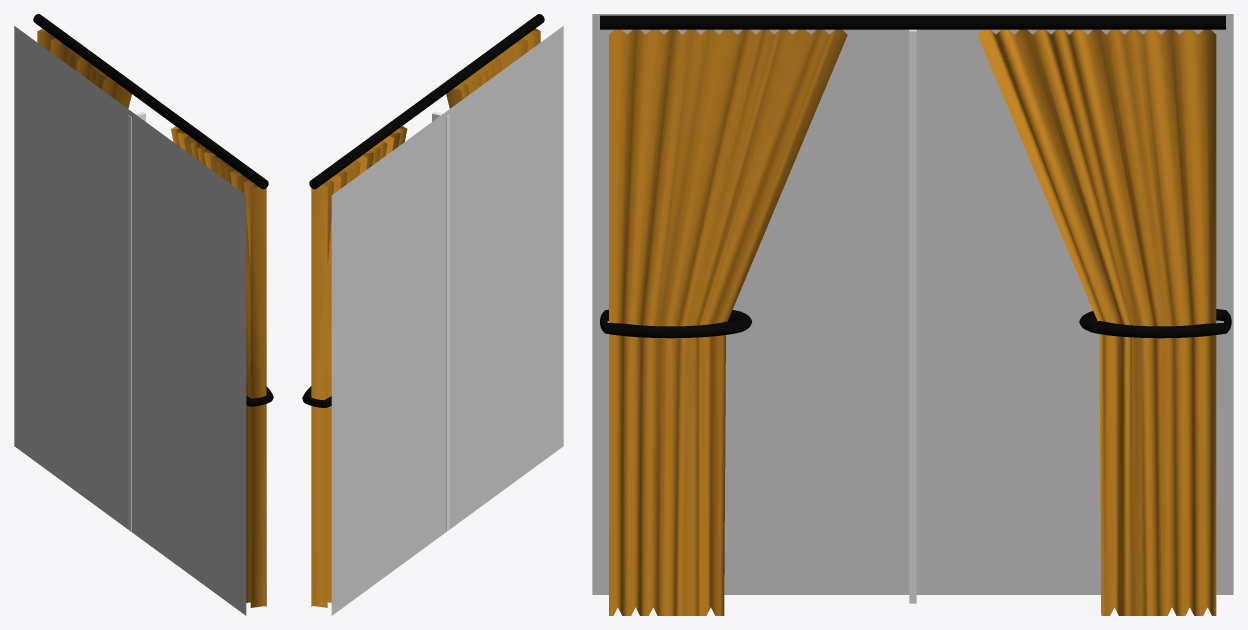
The model's file is window.fbx.
3 renders of one model, left to right at view 1: azimuth 30°, elevation 25°; view 2: azimuth 150°, elevation 25°; view 3: azimuth 270°, elevation 25°, orthographic. The views are drawn at different scales.
Visible parts, largest first — view 1: Plane.001, Plane, Cylinder, Cube; view 2: Plane.001, Plane, Cylinder, Cube; view 3: Plane.001, Plane, Cylinder, Cube, Torus.001, Torus.
Boxes of the visible parts, bbox=[...] form: Plane.001: bbox=[14, 26, 246, 615]; Plane: bbox=[37, 28, 266, 607]; Cylinder: bbox=[33, 14, 268, 189]; Cube: bbox=[128, 111, 145, 531]; Plane.001: bbox=[331, 26, 563, 615]; Plane: bbox=[311, 28, 540, 607]; Cylinder: bbox=[309, 14, 544, 189]; Cube: bbox=[432, 111, 449, 531]; Plane.001: bbox=[592, 14, 1233, 594]; Plane: bbox=[609, 29, 1216, 615]; Cylinder: bbox=[600, 15, 1225, 29]; Cube: bbox=[909, 29, 916, 603]; Torus.001: bbox=[1079, 309, 1231, 338]; Torus: bbox=[600, 309, 751, 338].
Bounding box in the file's own units: 19.38 × 205 × 200.
